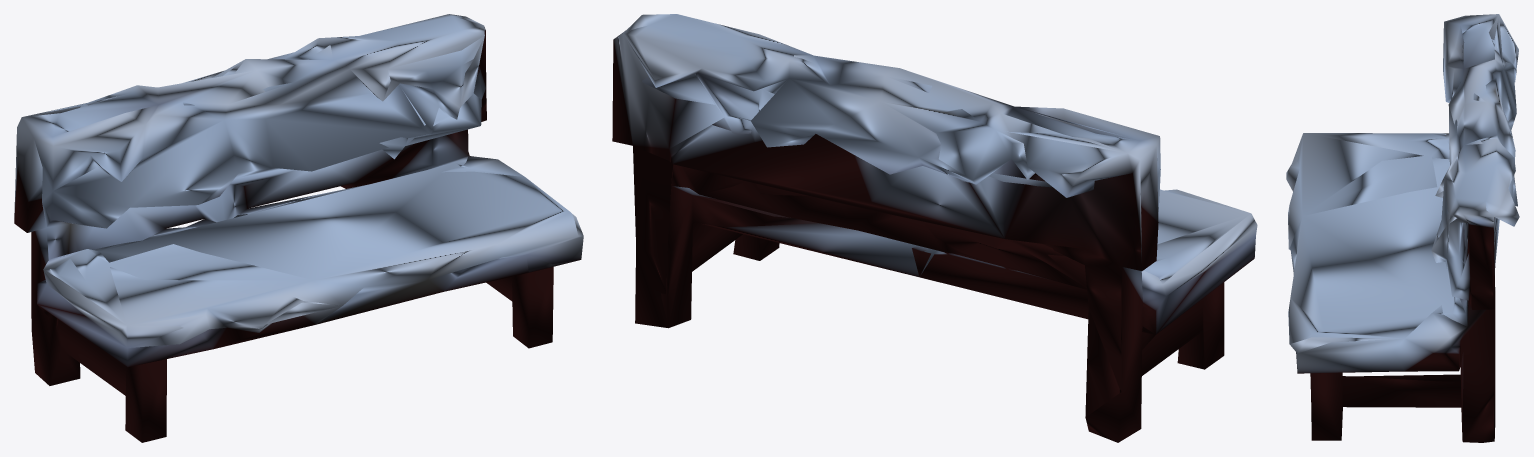
The model's file is gen3d-snowy-bench-lod1.glb.
3 renders of one model, left to right at view 1: azimuth 30°, elevation 25°; view 2: azimuth 150°, elevation 25°; view 3: azimuth 270°, elevation 25°, orthographic. The views are drawn at different scales.
Visible parts, largest first — view 1: part_0; view 2: part_0; view 3: part_0.
Boxes of the visible parts, left/top/right/bottom form: part_0: left=14, top=14, right=583, bottom=442; part_0: left=612, top=14, right=1257, bottom=442; part_0: left=1286, top=14, right=1519, bottom=442.
Bounding box in the file's own units: 1.81 × 0.9979 × 0.8632.
